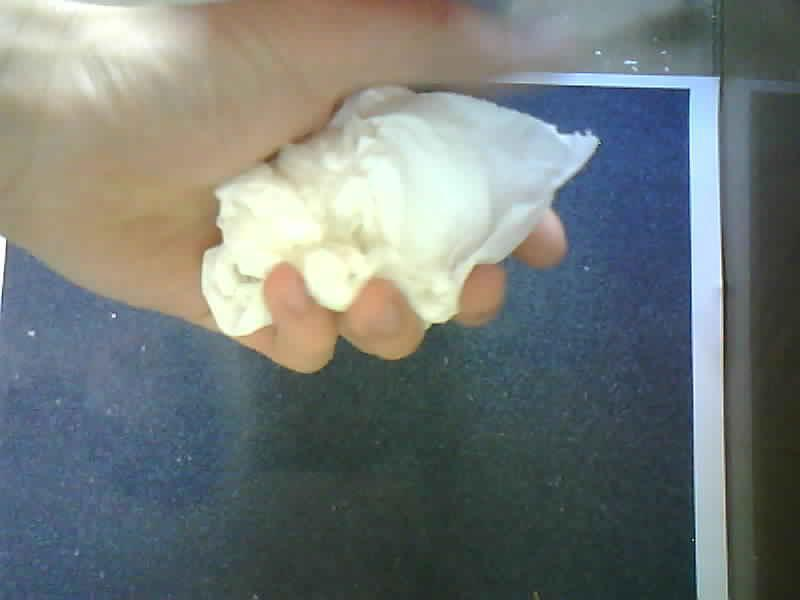paper: (203, 88, 598, 336)
